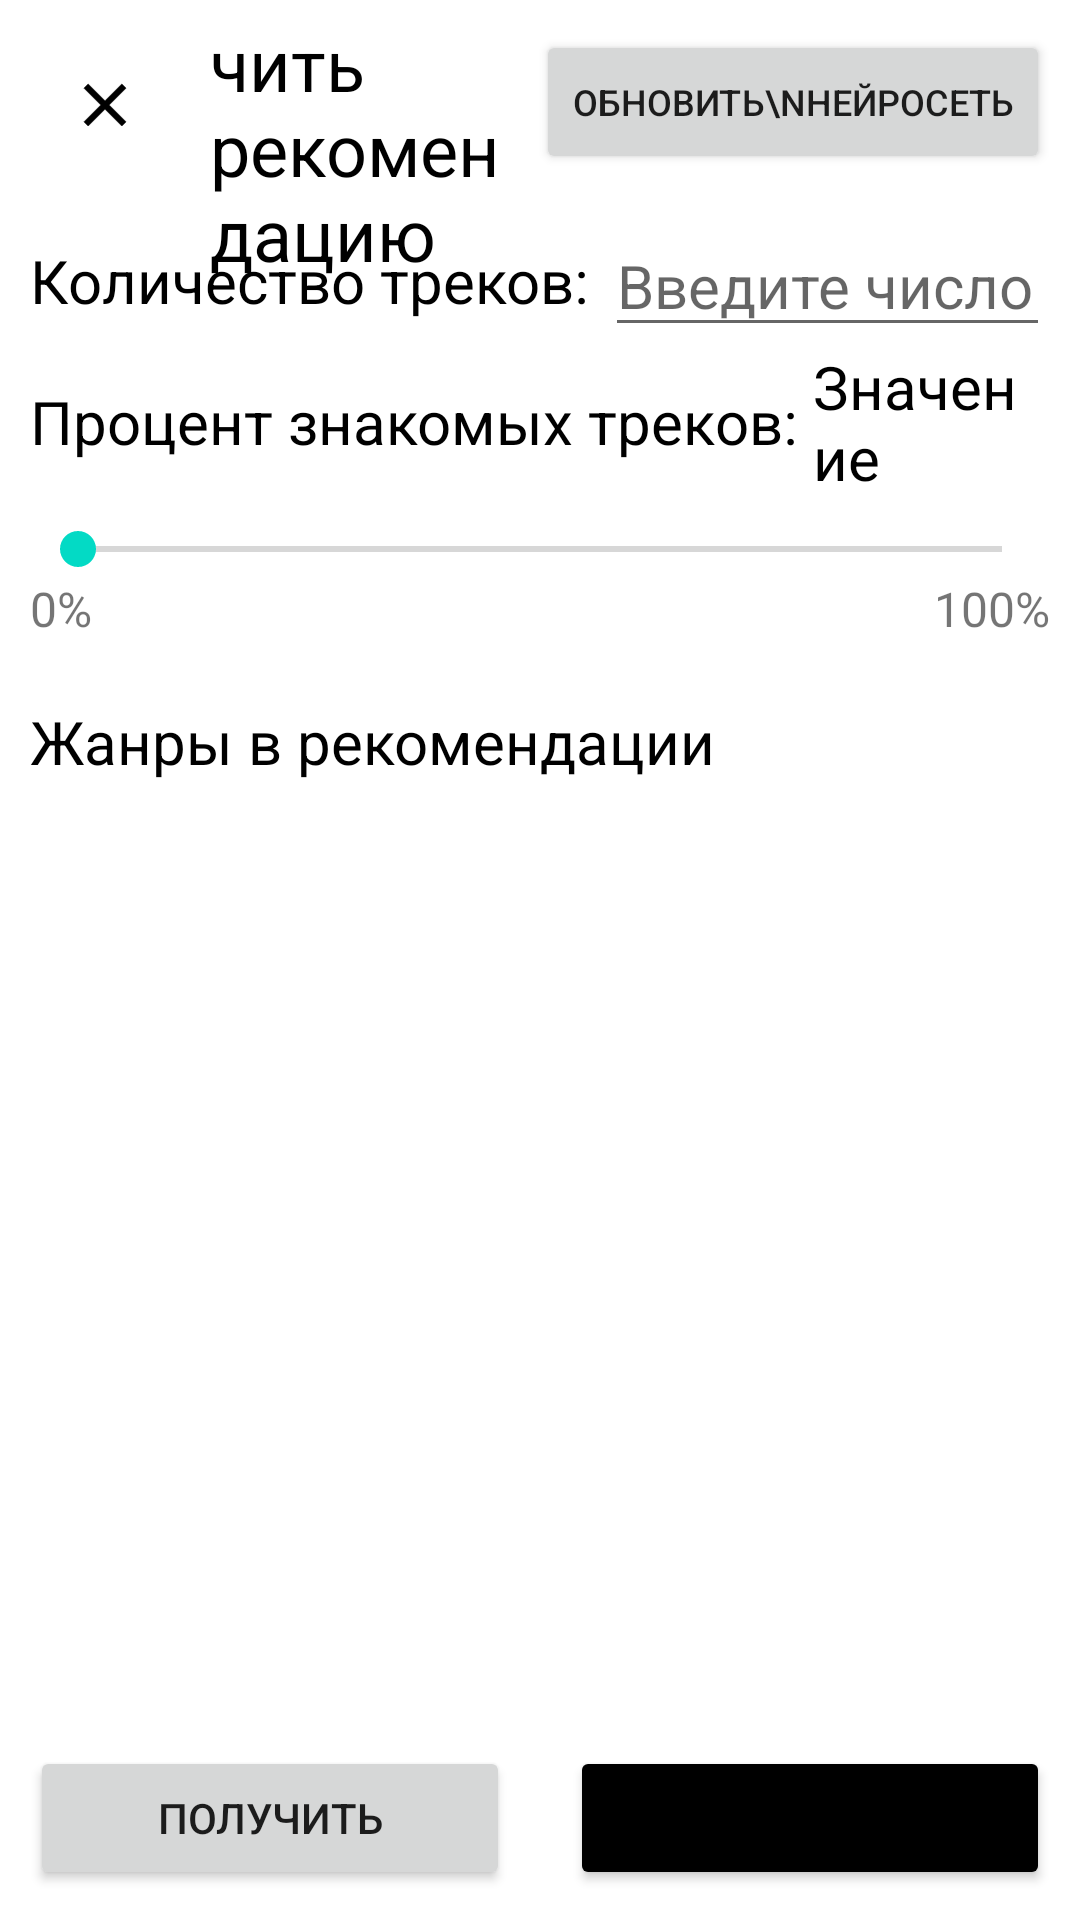

Icons on this 1080 x 1920 Android screen, each with the point to tap as [x,y]:
Close Button: [105,104]
